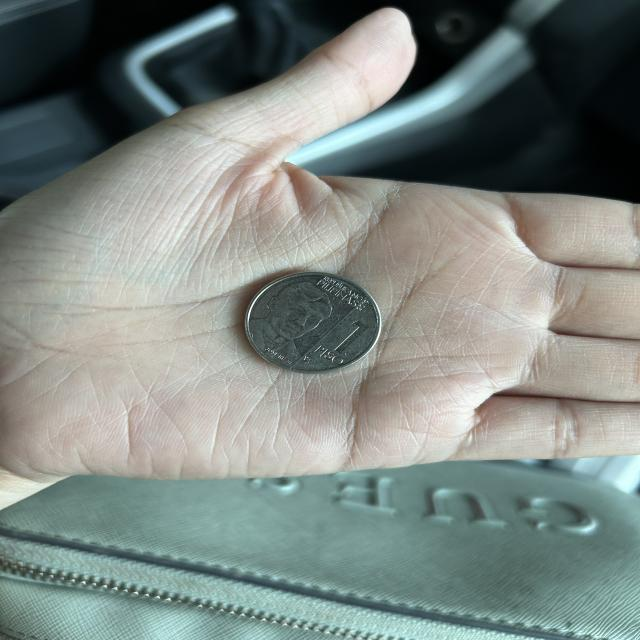1_New_Front: (311, 314, 363, 362)
